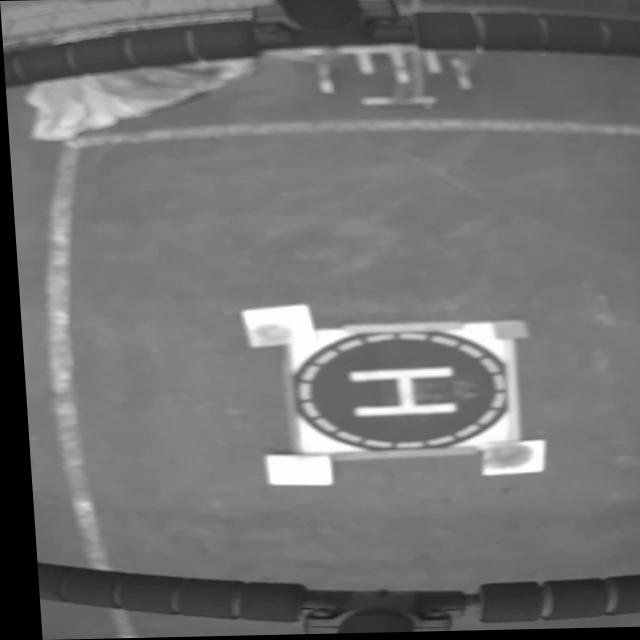Helipad: (342, 367, 452, 418)
